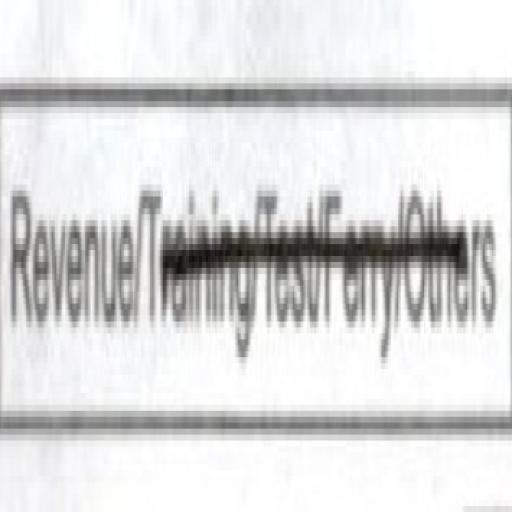check: (0, 22, 138, 473)
